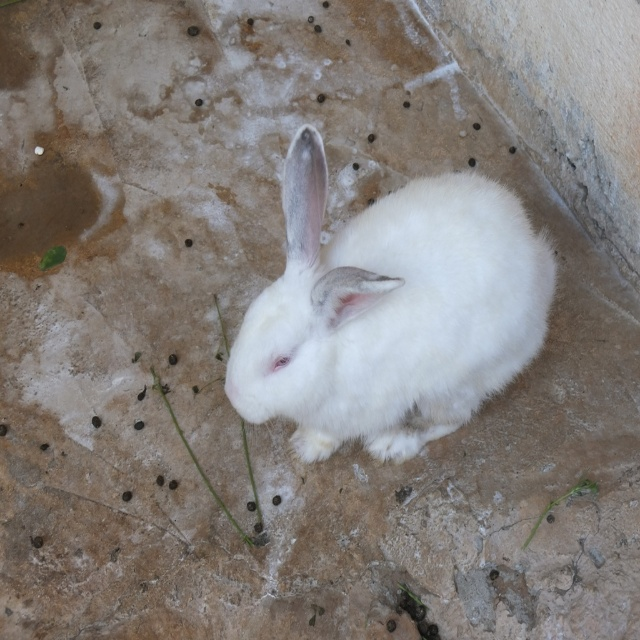Rabbit: (223, 121, 565, 468)
